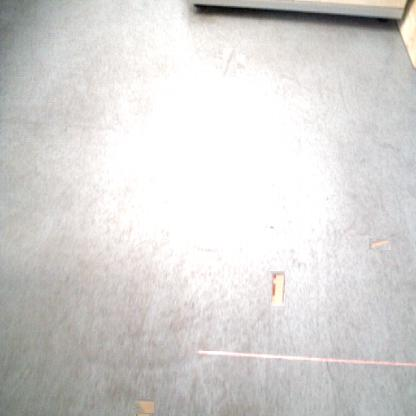dirty: (269, 270, 285, 306), (135, 397, 153, 415), (369, 238, 391, 250)
mark: (220, 52, 241, 73), (270, 224, 276, 231)
